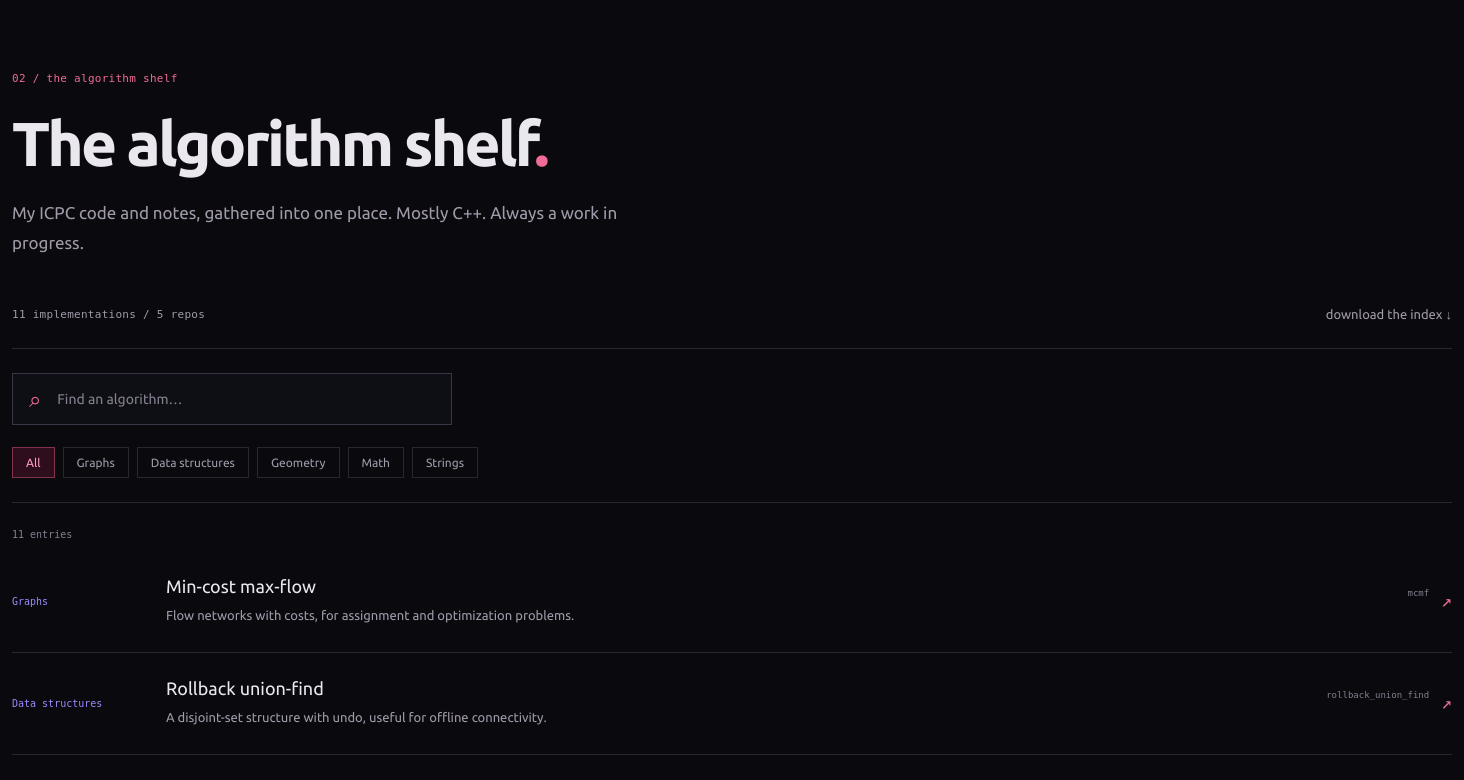
Scenario: library combines topic and text filters and can recover from an empty search
The width and height of the screenshot is (1464, 780).
Click the button "Geometry" at (298, 463), box left=257, top=447, right=340, bottom=478
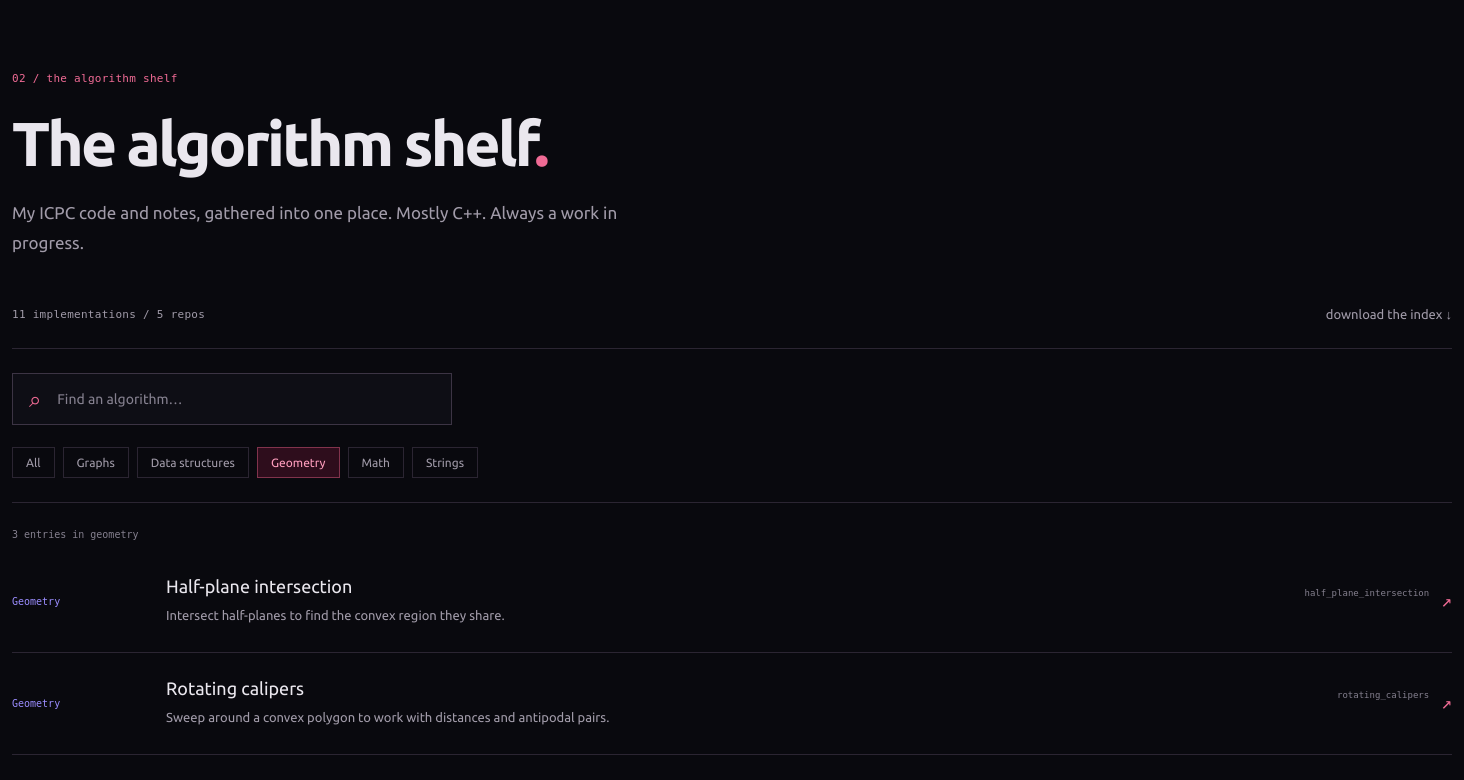
Now the message reads "3 entries in geometry", box left=12, top=529, right=138, bottom=540
Type "  HALF-PLANE  " into the search field at (245, 399), box left=55, top=390, right=435, bottom=408
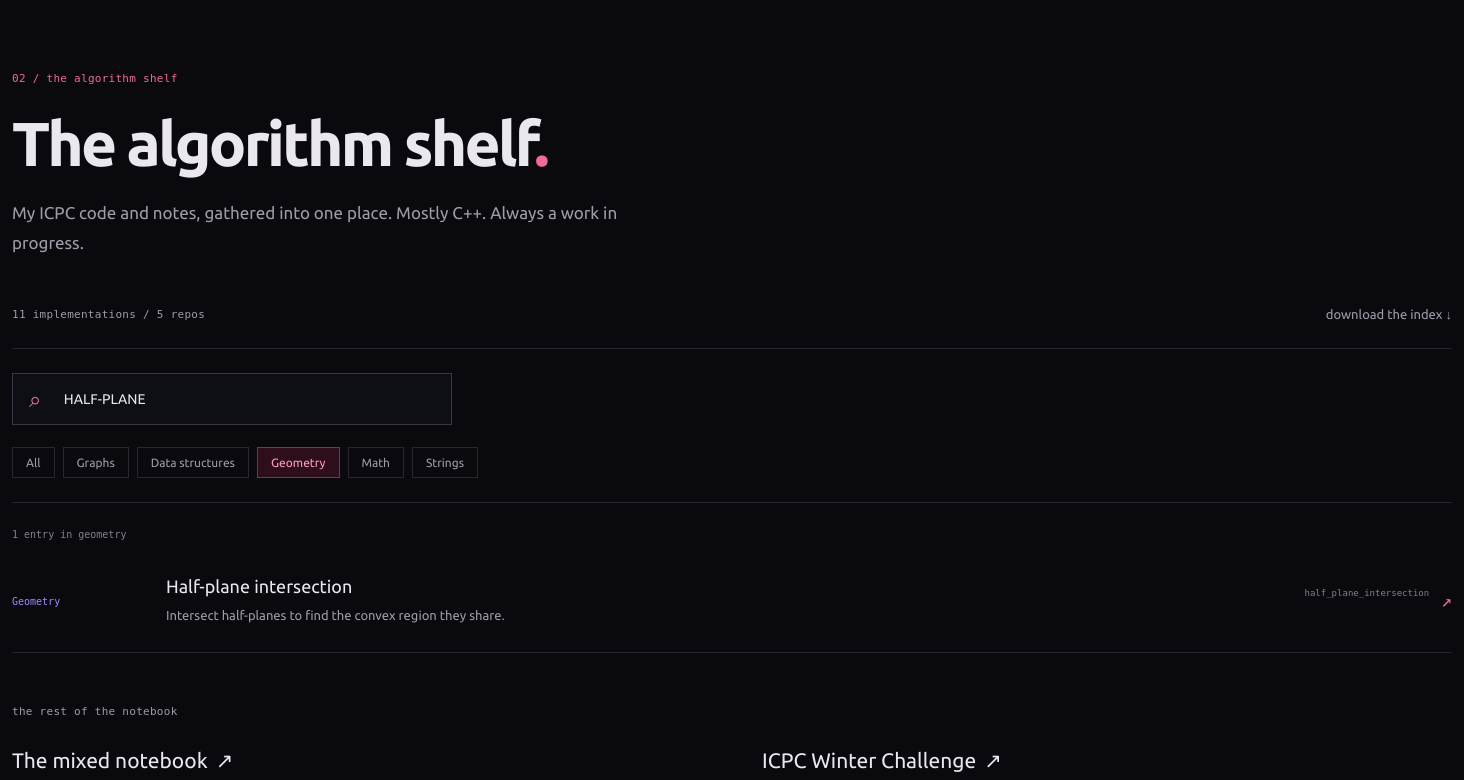
Now the message reads "1 entry in geometry", box left=12, top=529, right=126, bottom=540
Replace the text in the search field with "no-such-algorithm" at (245, 399), box left=55, top=390, right=435, bottom=408
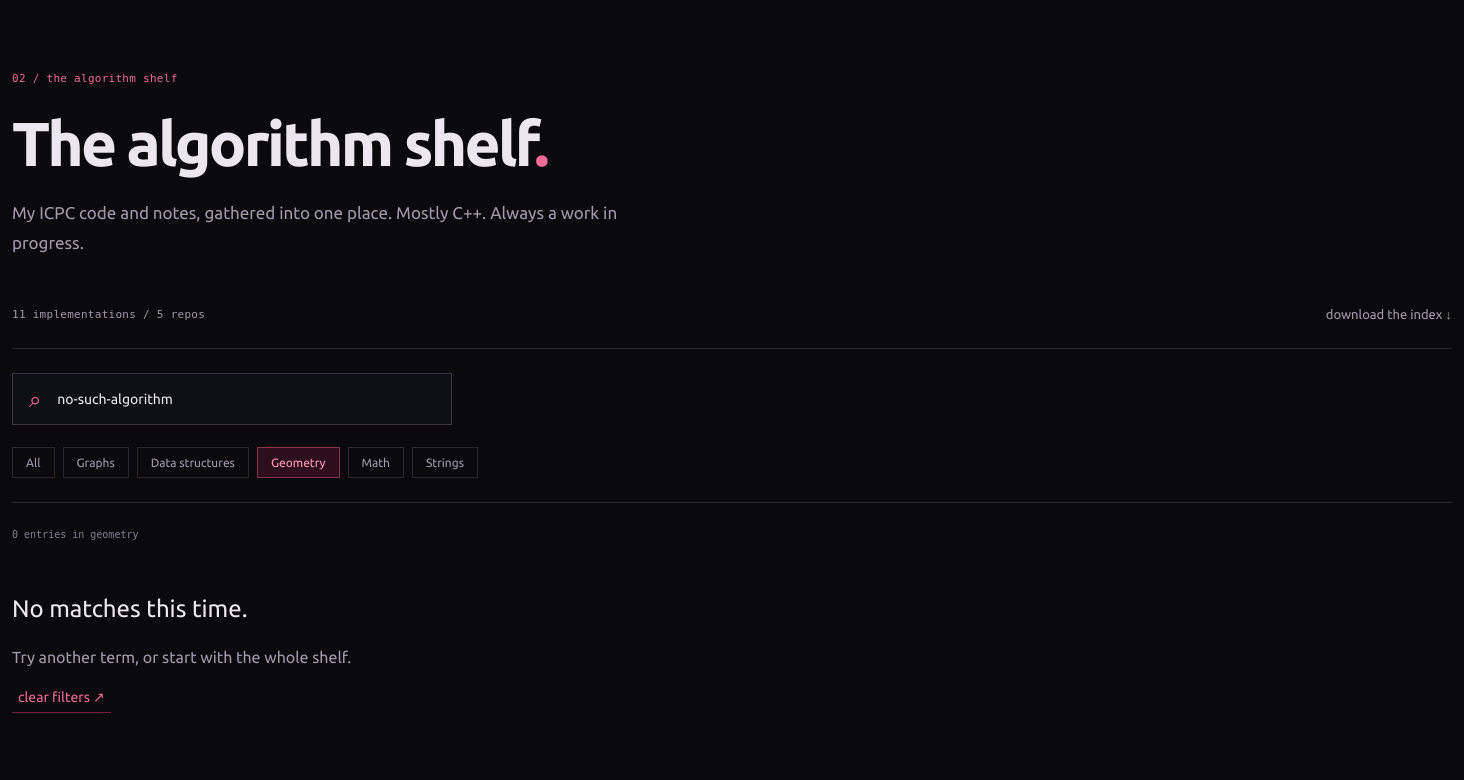
Now the heading "No matches this time." is shown, box left=12, top=595, right=248, bottom=622
Click the button "clear filters ↗" at (61, 701), box left=12, top=688, right=111, bottom=713
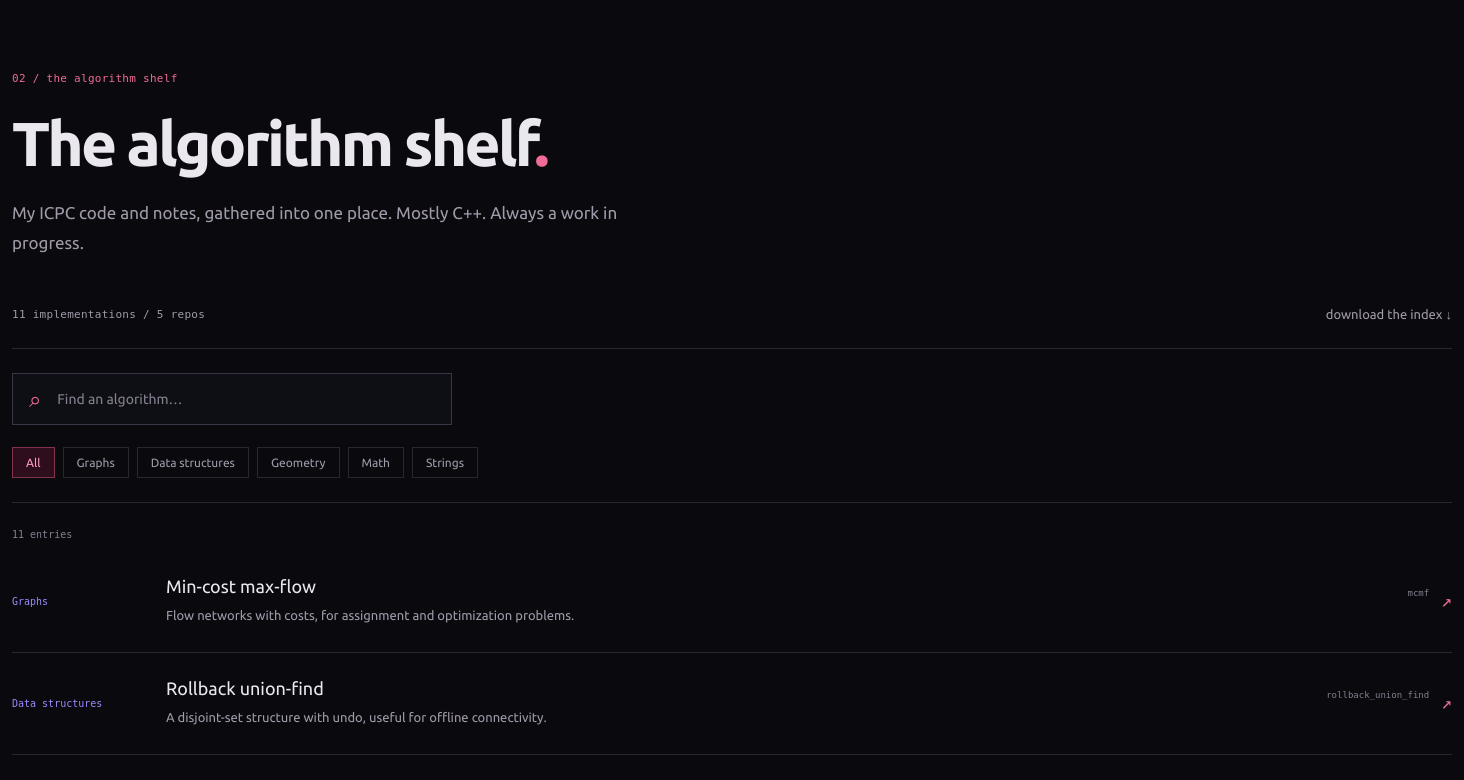
Now the search field is empty, box left=55, top=390, right=435, bottom=408
